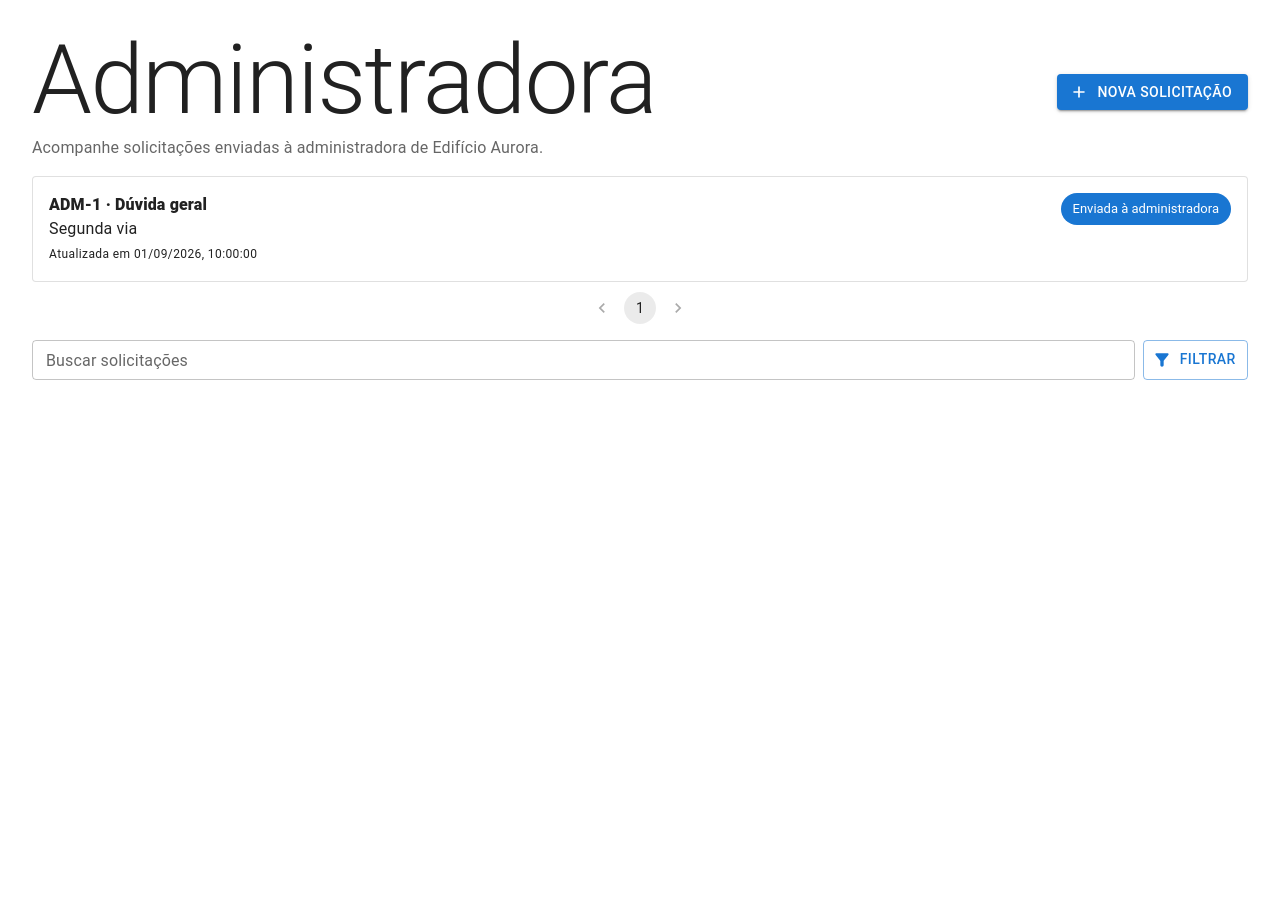
mobile management hierarchy › places administrator requests before mobile filters and preserves creation
This screenshot has width=1280, height=900.
Check: the text "Segunda via" is shown, box x1=49 y1=219 x2=137 y2=238
Check: the button "Nova solicitação" is shown, box x1=1057 y1=74 x2=1248 y2=110
Click the button "Filtrar".
click(1196, 360)  # box x1=1144 y1=340 x2=1248 y2=380
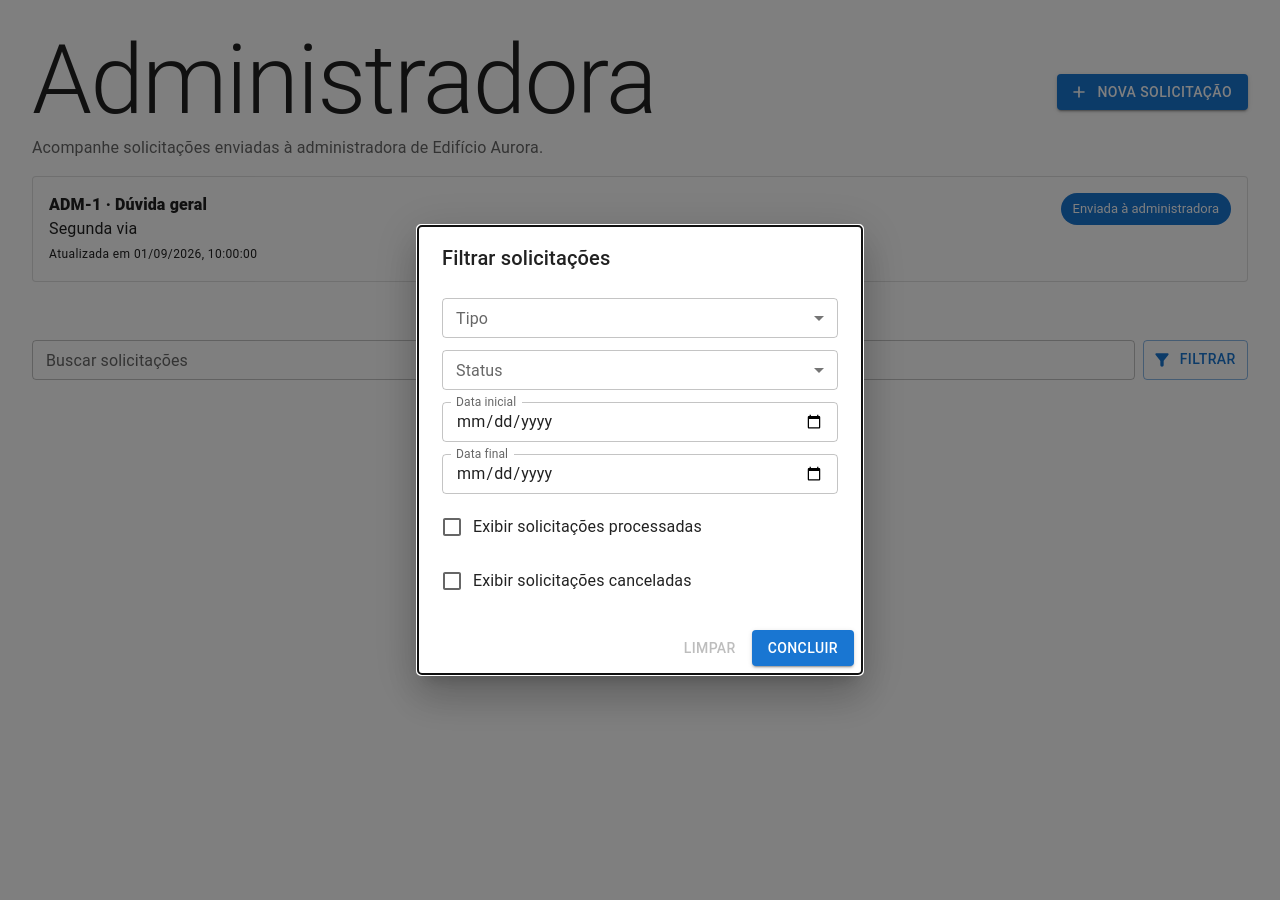
Check: the dialog "Filtrar solicitações" is shown, box x1=418 y1=226 x2=862 y2=674
Click the button "Concluir".
click(803, 648)  # box x1=752 y1=630 x2=854 y2=666
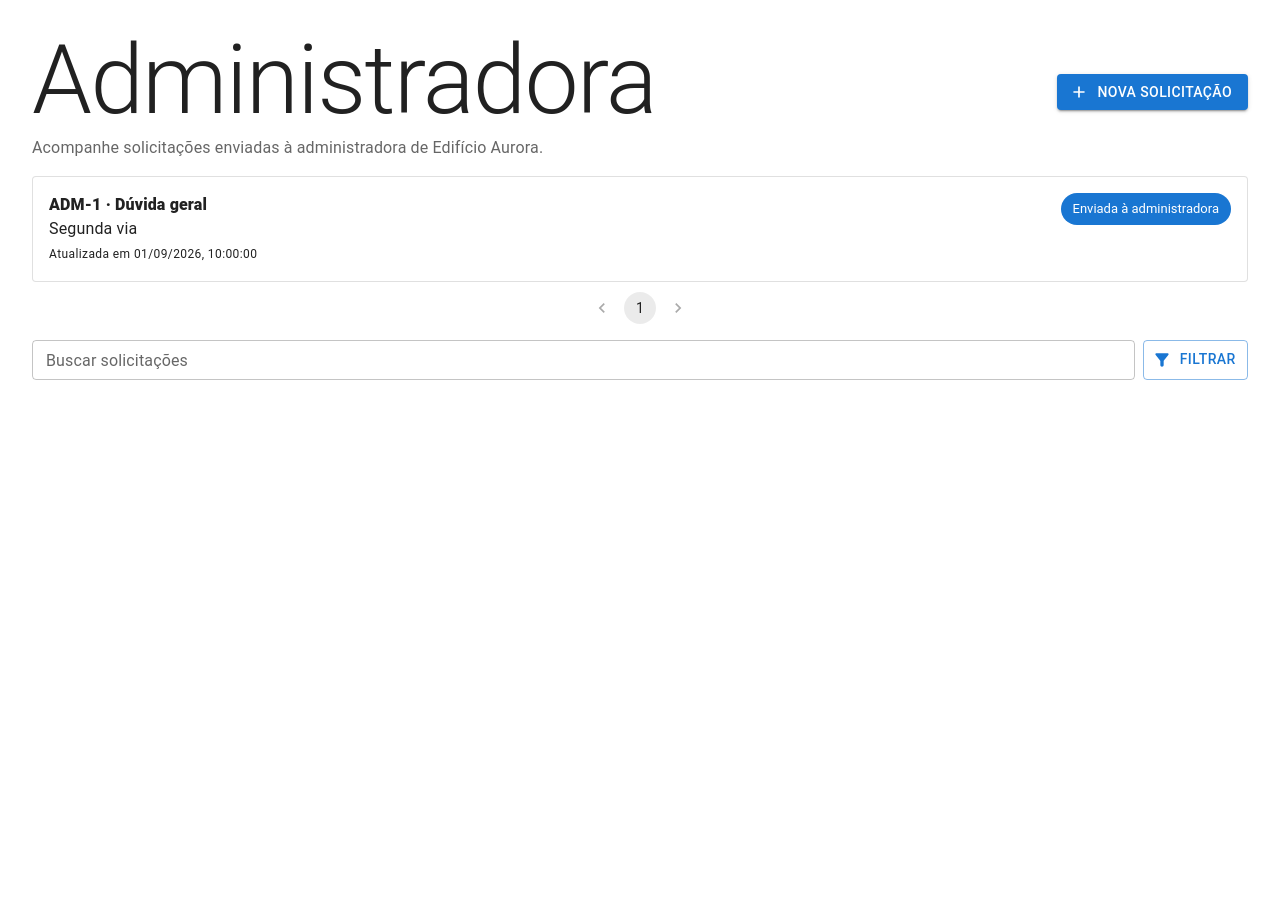
Check: the dialog is gone
